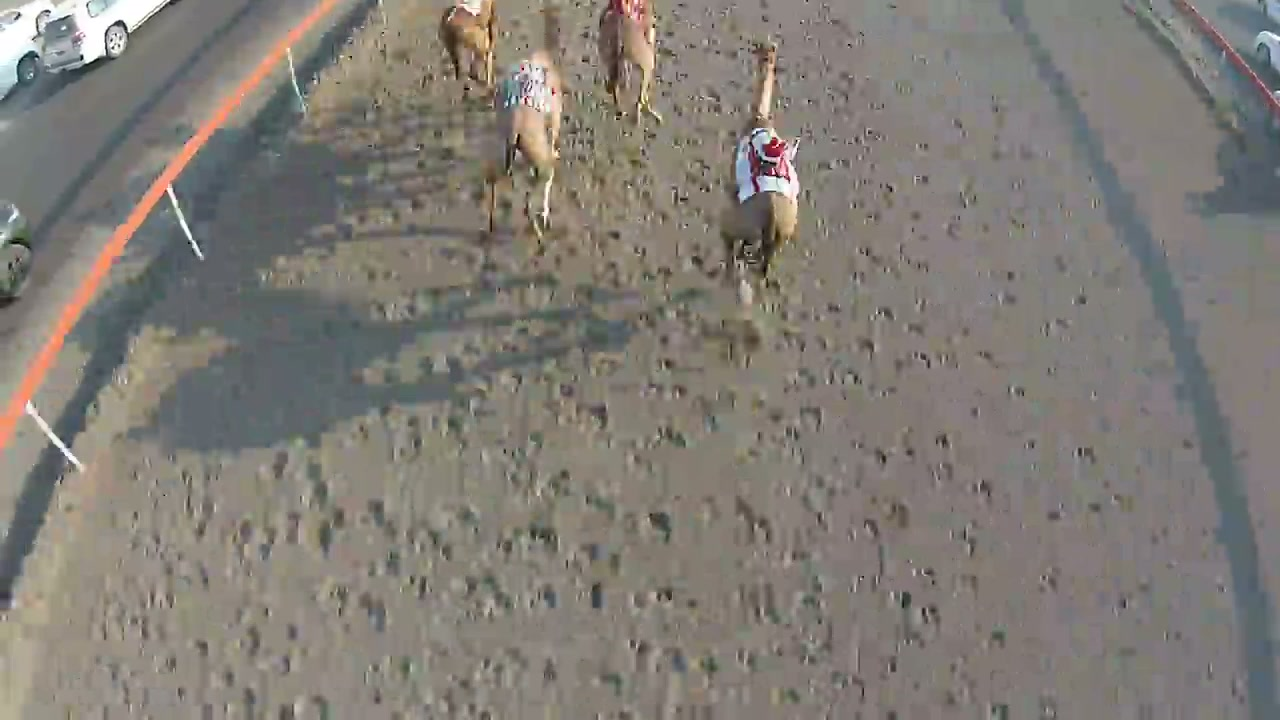animal_foot_print: (186, 71, 1019, 719)
